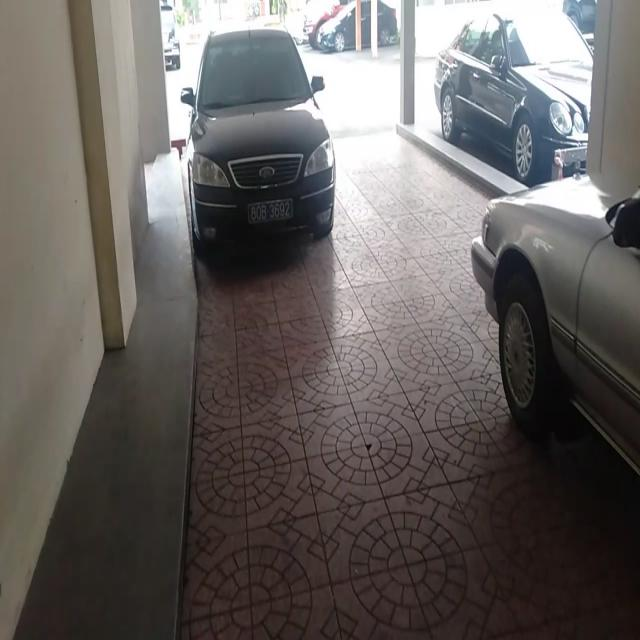bien_xanh: (246, 201, 295, 223)
